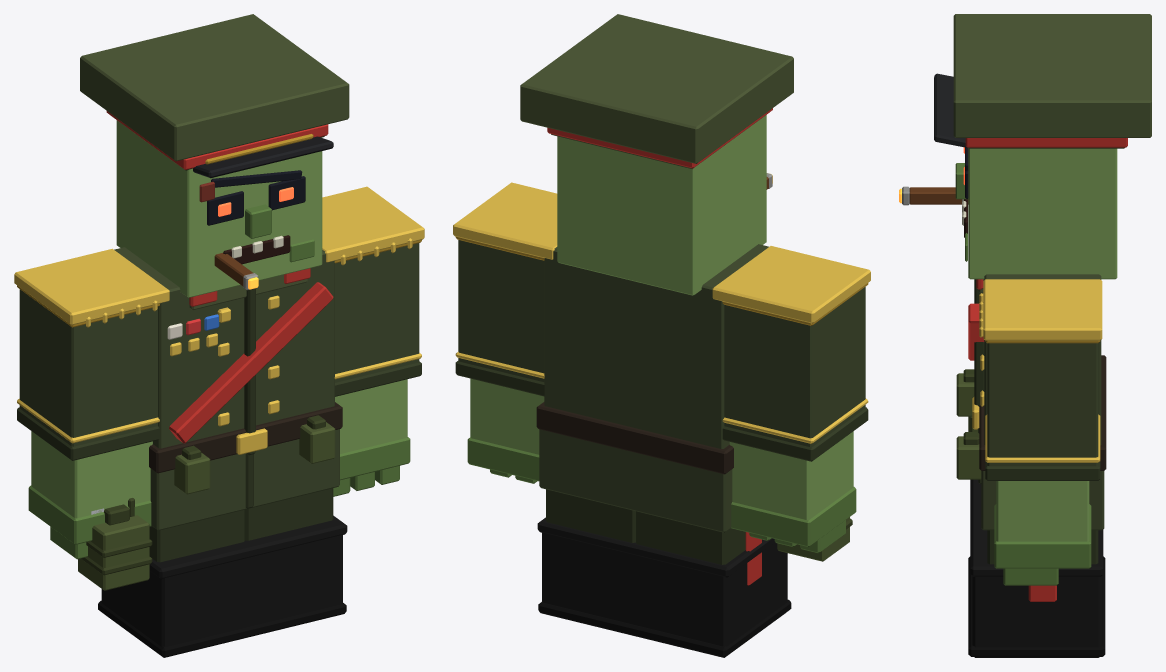
Rendered from myw_zombiecommander.glb.
The picture shows the model from 3 angles, left to right: view 1: azimuth 30°, elevation 25°; view 2: azimuth 150°, elevation 25°; view 3: azimuth 270°, elevation 25°; orthographic projection. The views are drawn at different scales.
Parts seen in each view (by area): view 1: Torso, RightArm, Hat, Head, LeftArm, RightLeg, LeftLeg, Grenade; view 2: Torso, RightArm, Hat, Head, LeftArm, RightLeg, LeftLeg, Grenade; view 3: LeftArm, Hat, Head, LeftLeg, Torso, RightLeg.
Part boxes in pixels (left/top/right/bottom): Torso: left=114, top=247, right=342, bottom=530; RightArm: left=14, top=248, right=169, bottom=559; Hat: left=80, top=14, right=349, bottom=178; Head: left=116, top=120, right=322, bottom=297; LeftArm: left=322, top=186, right=424, bottom=496; RightLeg: left=98, top=509, right=257, bottom=657; LeftLeg: left=244, top=488, right=347, bottom=635; Grenade: left=78, top=498, right=152, bottom=590; Torso: left=536, top=244, right=768, bottom=532; RightArm: left=712, top=246, right=870, bottom=553; Hat: left=520, top=14, right=793, bottom=168; Head: left=557, top=115, right=772, bottom=295; LeftArm: left=453, top=182, right=557, bottom=483; RightLeg: left=629, top=511, right=791, bottom=657; LeftLeg: left=537, top=489, right=635, bottom=635; Grenade: left=777, top=517, right=852, bottom=561; LeftArm: left=979, top=279, right=1102, bottom=585; Hat: left=934, top=14, right=1151, bottom=148; Head: left=899, top=147, right=1117, bottom=279; LeftLeg: left=968, top=520, right=1105, bottom=657; Torso: left=956, top=274, right=1106, bottom=530; RightLeg: left=968, top=479, right=1105, bottom=603.
Bounding box in the file's own units: 4.26 × 6.19 × 2.55.
